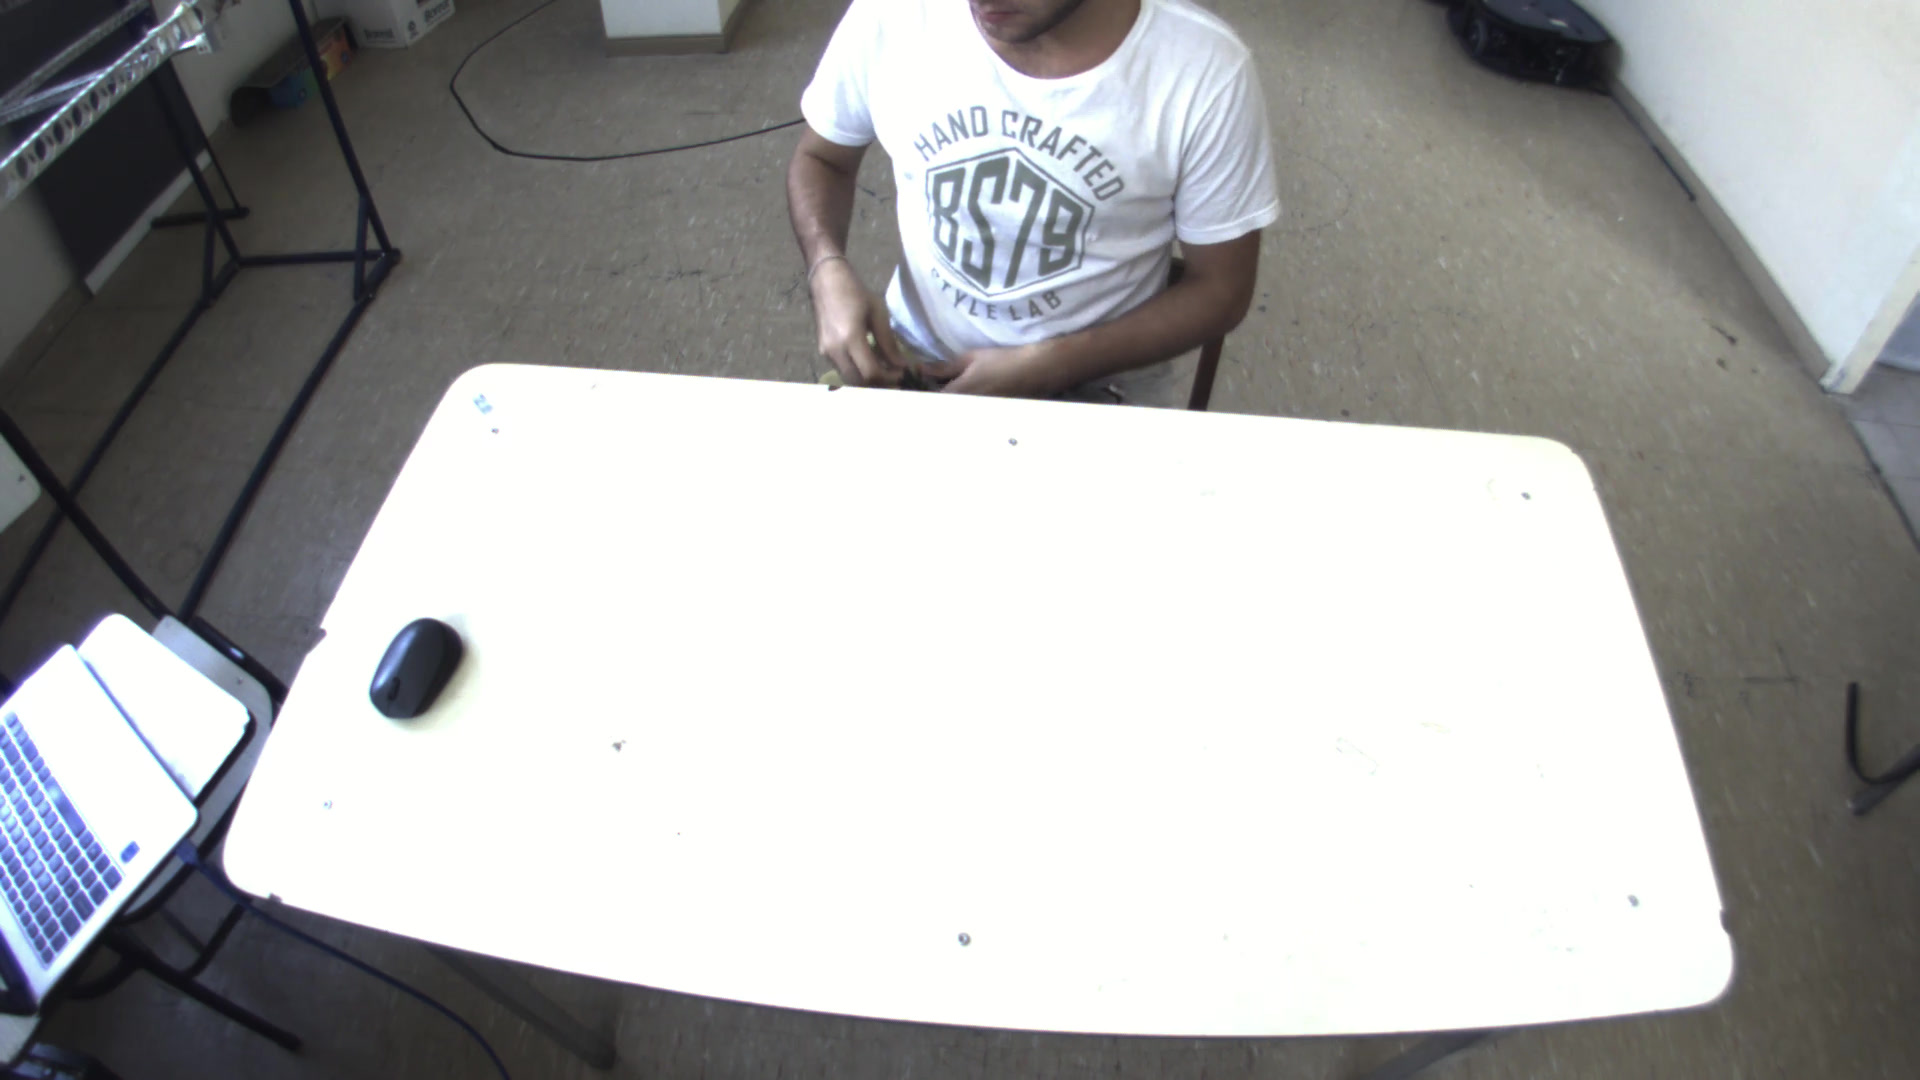hand: (793, 251, 936, 384)
